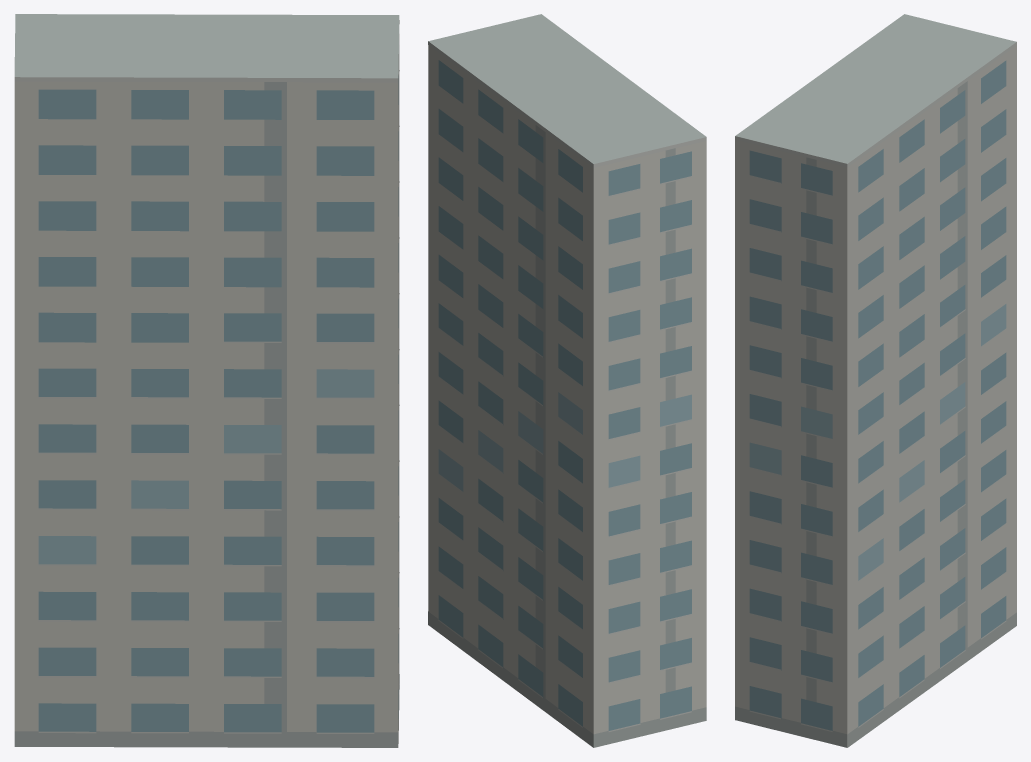
Rendered from residential-e64fb050-f334-4cda-baa9-27093fd30784.glb.
3 views of the same model, side by side, from view 1: azimuth 30°, elevation 25°; view 2: azimuth 150°, elevation 25°; view 3: azimuth 270°, elevation 25° (orthographic). The views are drawn at different scales.
Visible parts, largest first — view 1: residential-e64fb050-f334-4cda-baa9-27093fd30784.tmp; view 2: residential-e64fb050-f334-4cda-baa9-27093fd30784.tmp; view 3: residential-e64fb050-f334-4cda-baa9-27093fd30784.tmp.
Part boxes in pixels (box(x1,y1,x2,y2)): residential-e64fb050-f334-4cda-baa9-27093fd30784.tmp: box(14, 14, 399, 747); residential-e64fb050-f334-4cda-baa9-27093fd30784.tmp: box(428, 14, 706, 747); residential-e64fb050-f334-4cda-baa9-27093fd30784.tmp: box(735, 14, 1016, 747).
Bounding box in the file's own units: 21.48 × 39 × 17.06.
